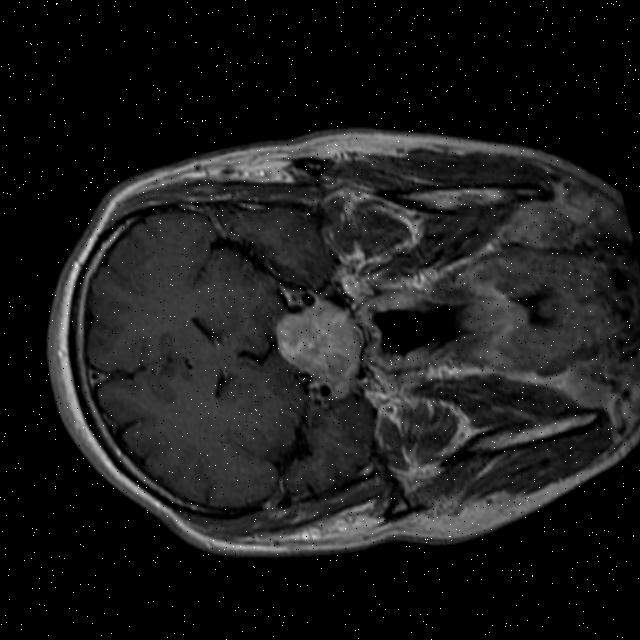Pituitary: (268, 295, 373, 396)
